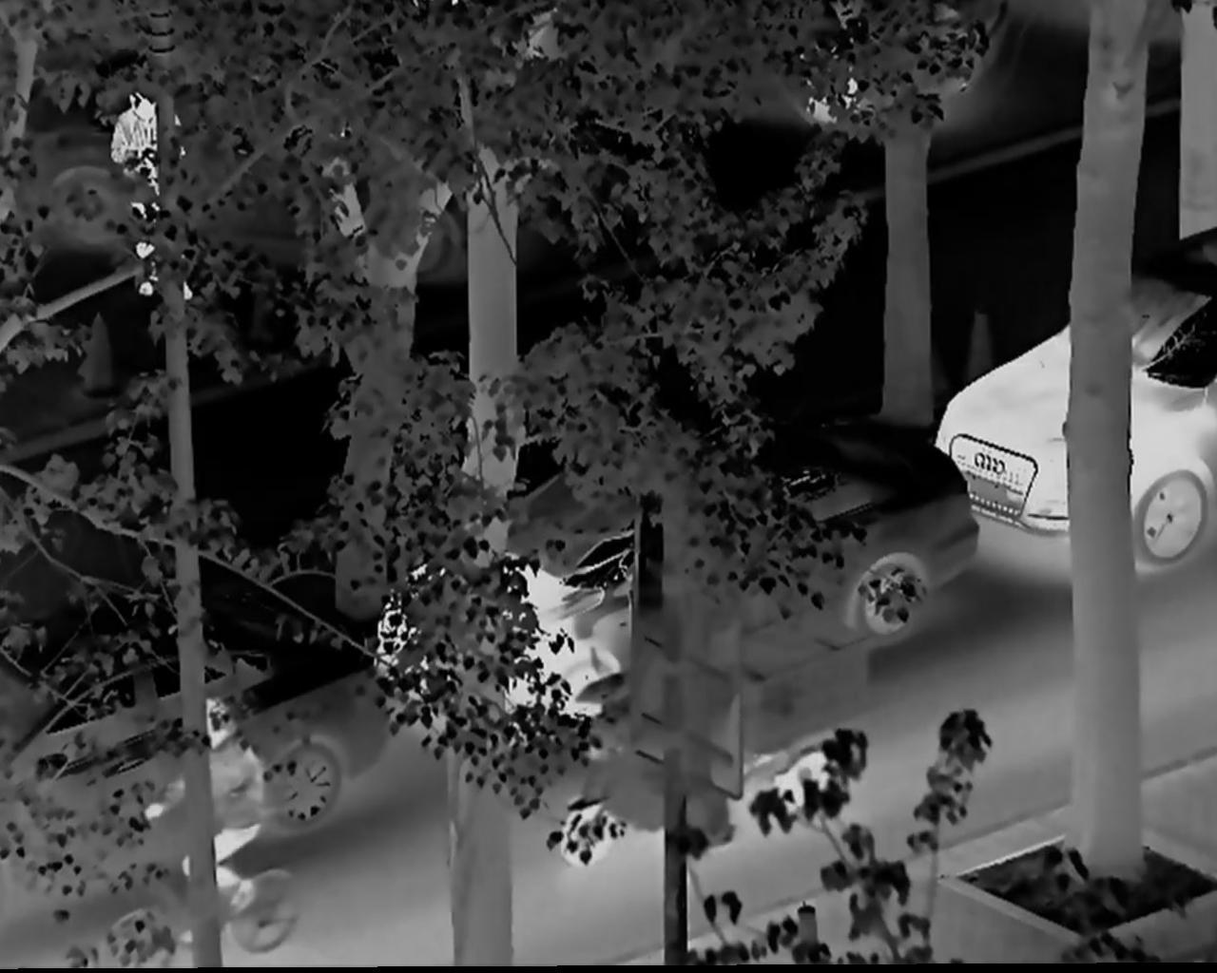person: (151, 710, 267, 918), (106, 90, 199, 301)
